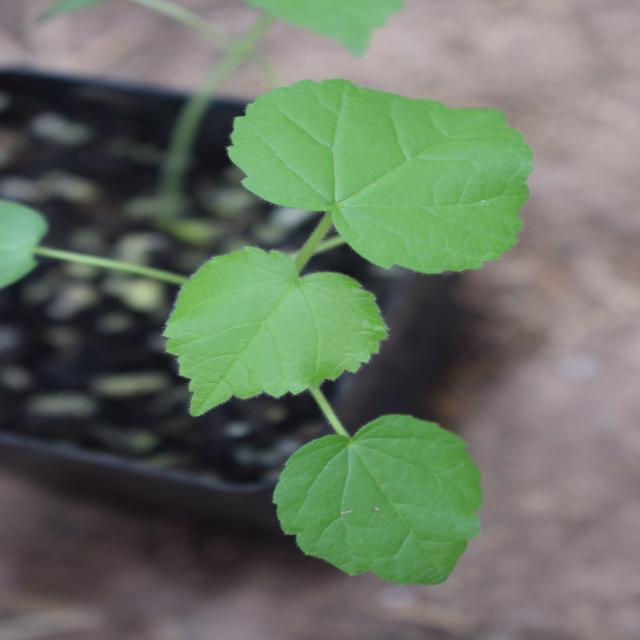abutilon theophrasti: (63, 114, 546, 590)
